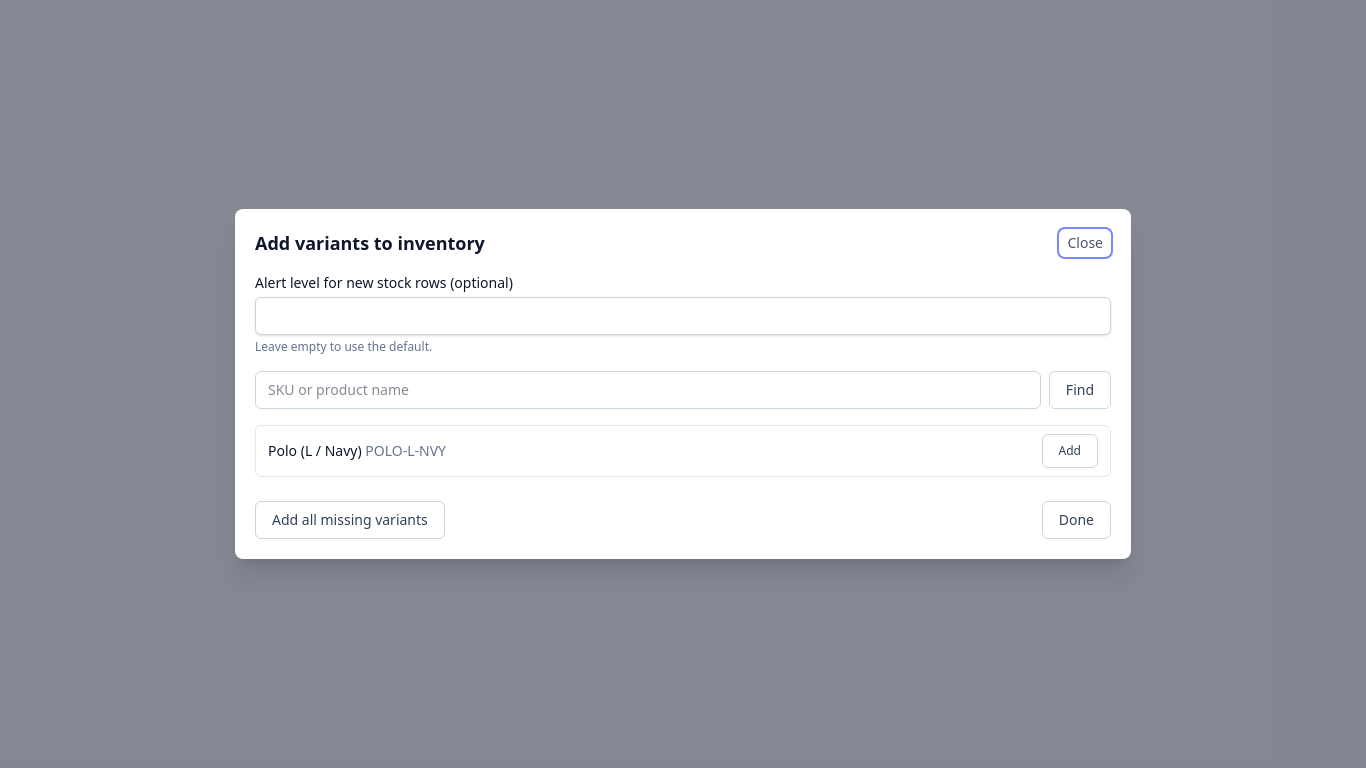
Test: AddToInventoryModal › creates every missing stock row in one go
The width and height of the screenshot is (1366, 768).
Click the button "Add all missing variants".
click(350, 520)  # box [255,501,445,539]
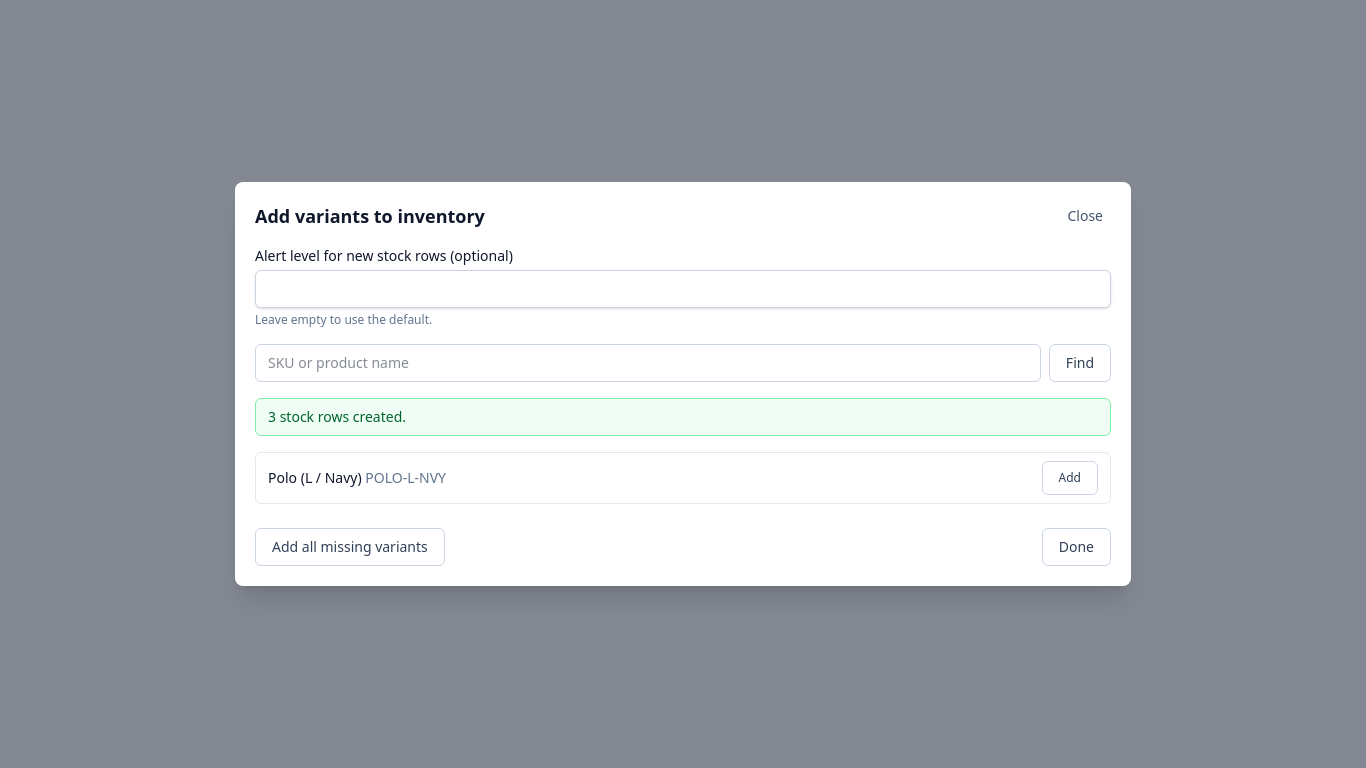
Expected: the text "3 stock rows created." is shown, [255,398,1111,436]
